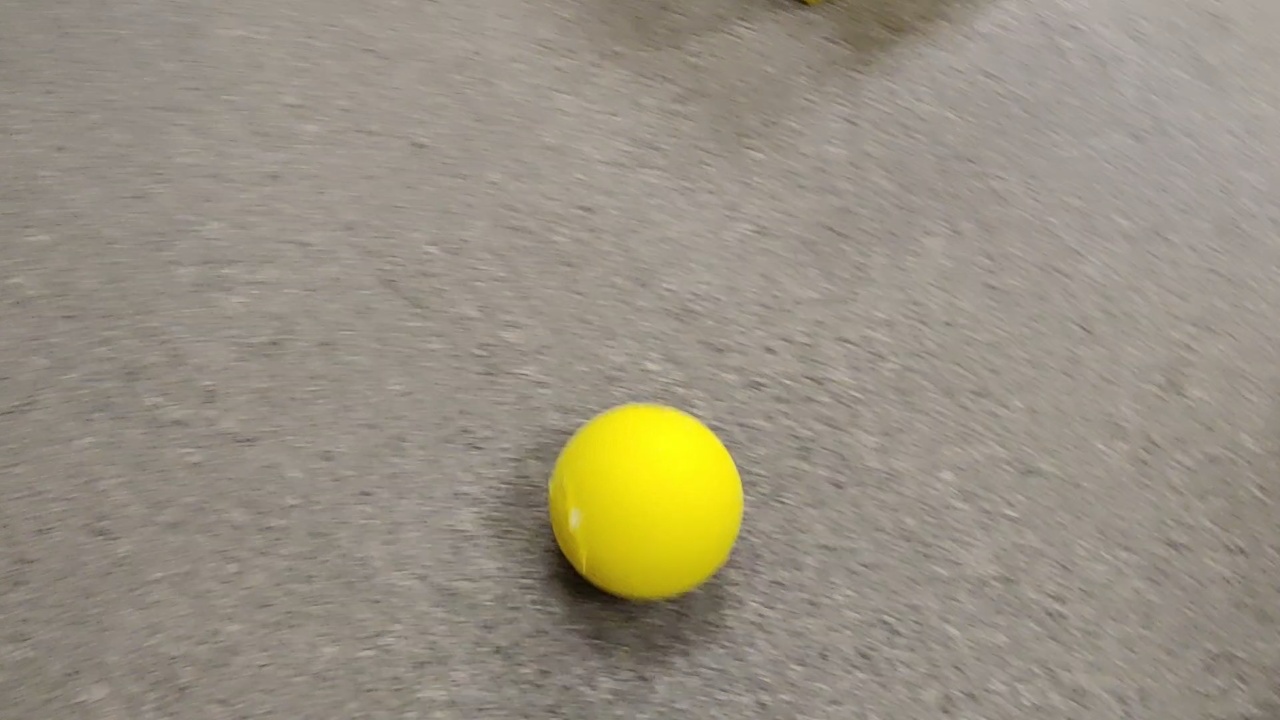Ball: (547, 402, 744, 598)
